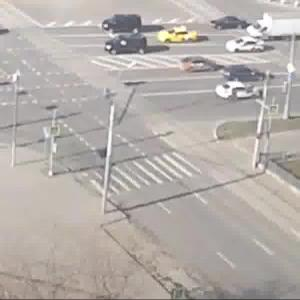car: (215, 81, 270, 107), (250, 15, 300, 43), (98, 11, 151, 36), (102, 31, 148, 59), (158, 27, 204, 50), (225, 39, 274, 57), (224, 63, 266, 82), (182, 59, 219, 77), (213, 20, 242, 34)
